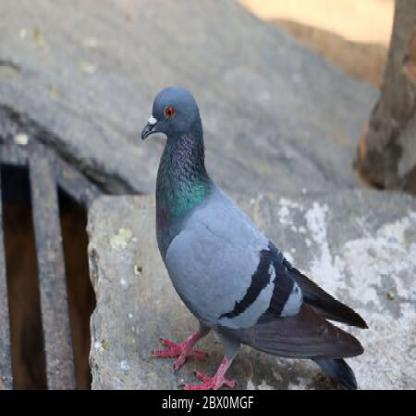Rock Pigeon: (141, 85, 353, 386)
